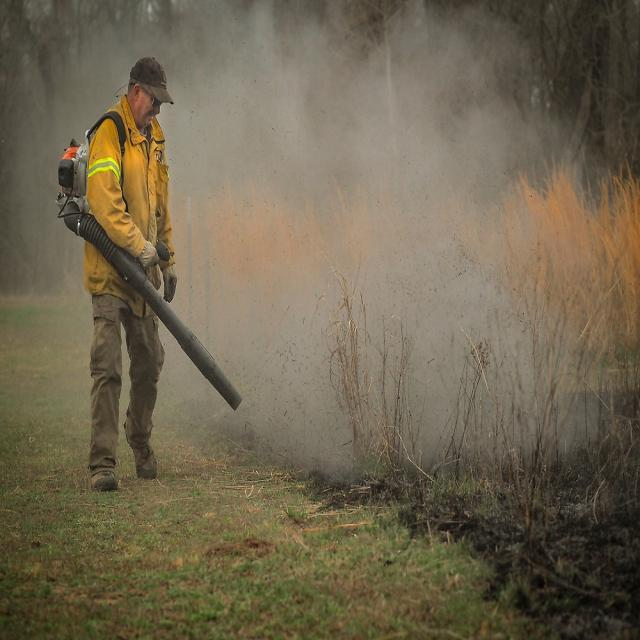Smoke: (0, 0, 596, 474)
